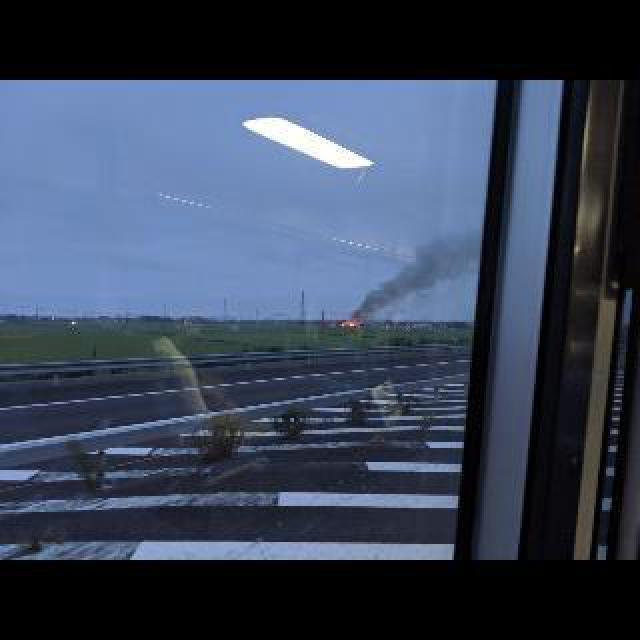Fire: (342, 320, 358, 324)
Smoke: (350, 266, 434, 318)
